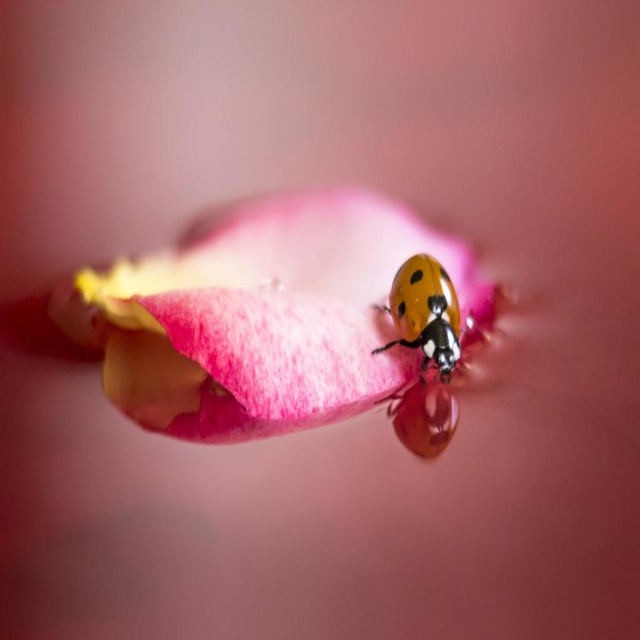Ladybug: (370, 251, 464, 387)
